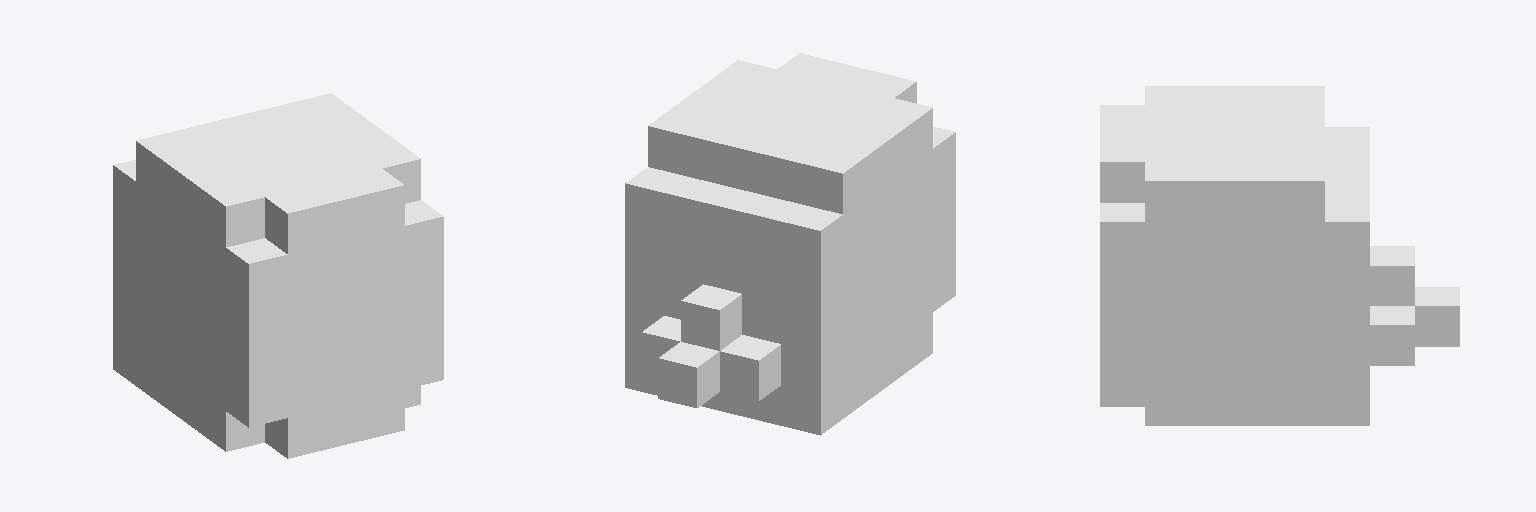
Rendered from anim_penguin_v2_head.obj.
3 renders of one model, left to right at view 1: azimuth 30°, elevation 25°; view 2: azimuth 150°, elevation 25°; view 3: azimuth 270°, elevation 25°, orthographic.
Parts seen in each view (by area): view 1: object 1; view 2: object 1; view 3: object 1.
Part boxes in pixels (x1,y1,x2,y2): object 1: (113, 93, 443, 458); object 1: (625, 53, 955, 435); object 1: (1100, 86, 1459, 425).
Bounding box in the file's own units: 0.5 × 0.6 × 0.8.